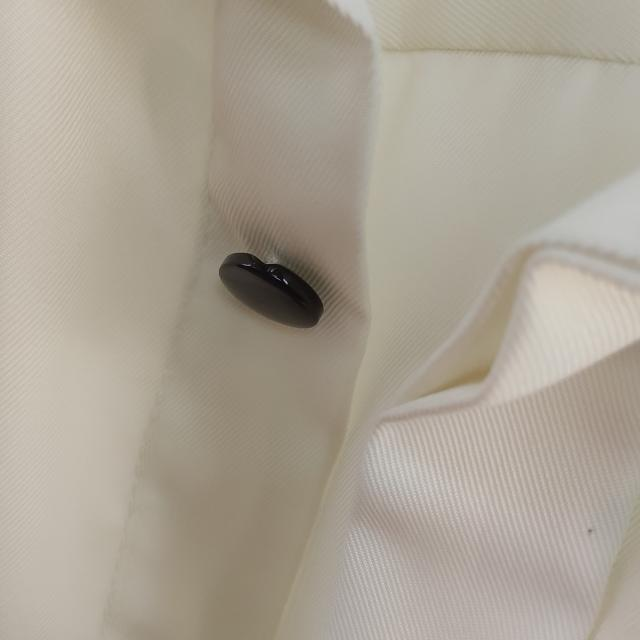education_male_uniform: (109, 95, 556, 548)
